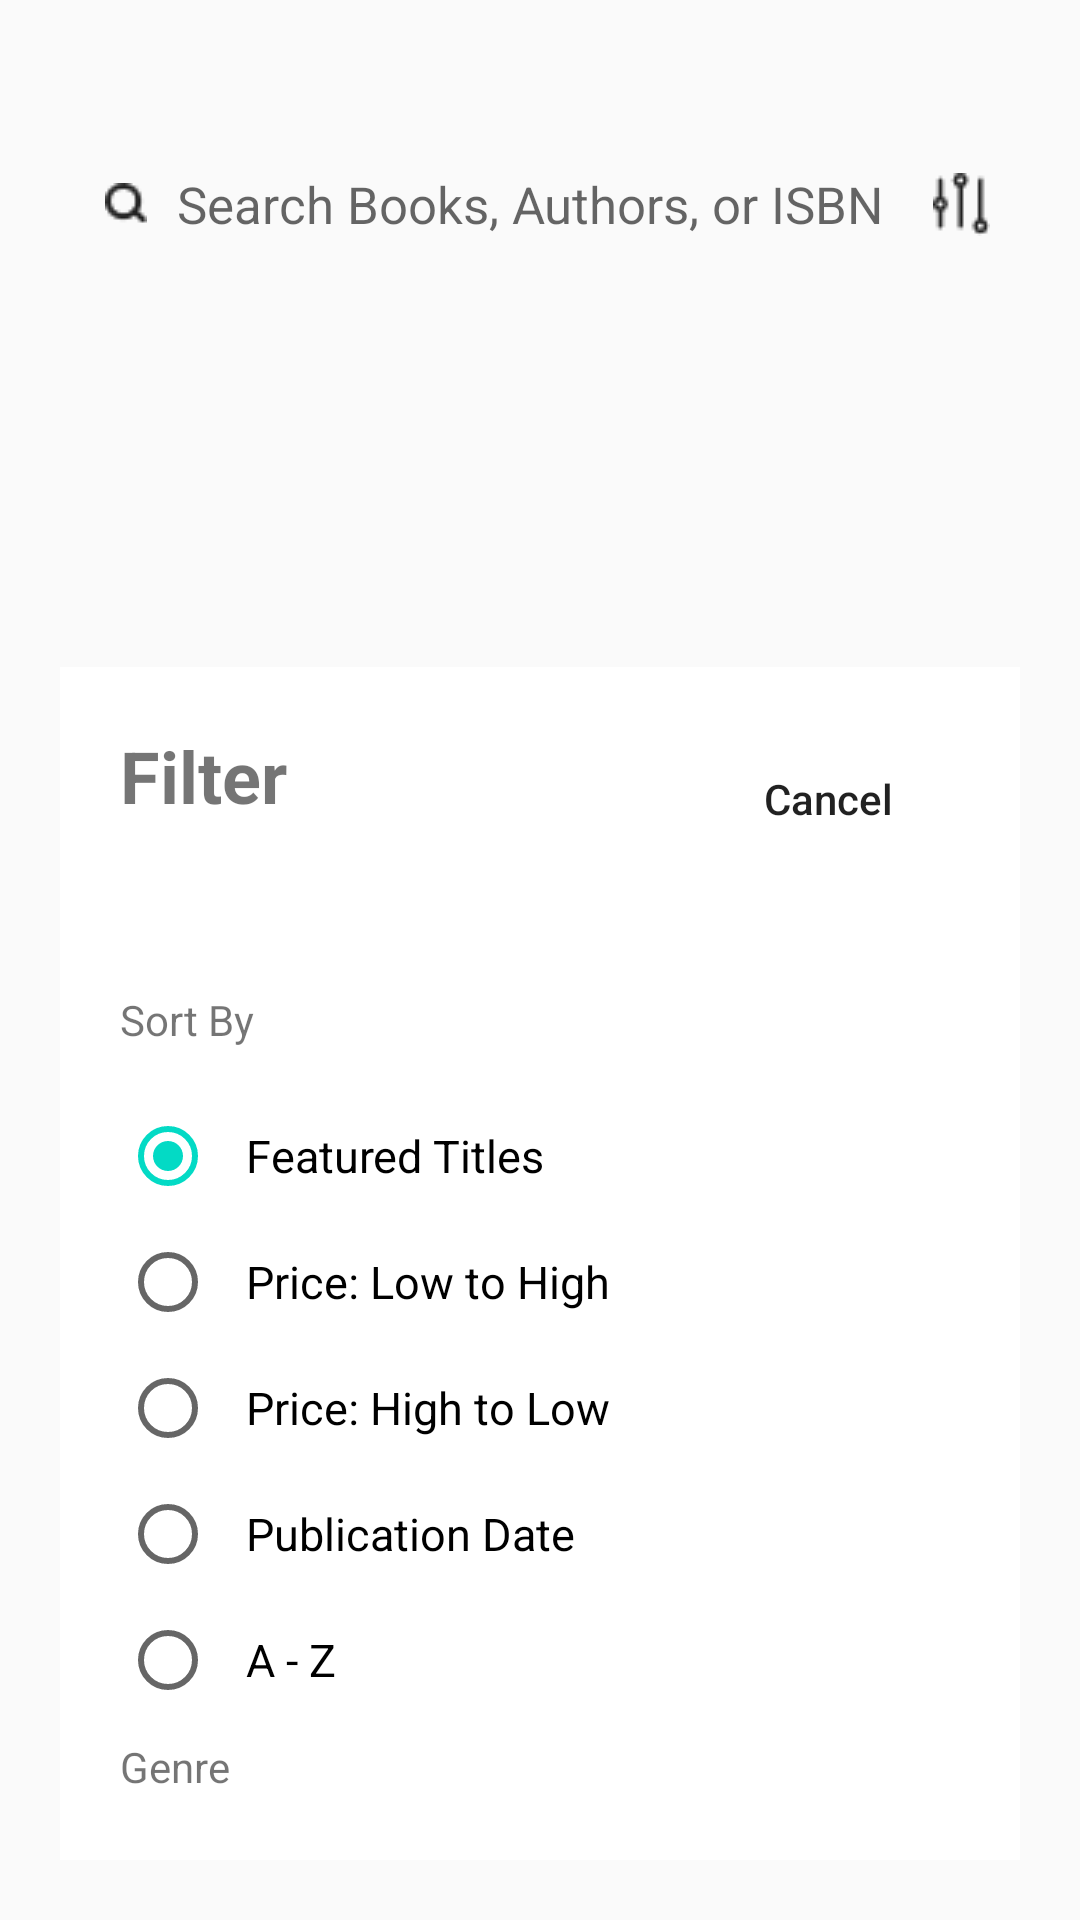

Named icons in this screenshot (1080*1920) and their bounding boxes, (x1, y1, x2, y2):
filter: (933, 173, 990, 234)
